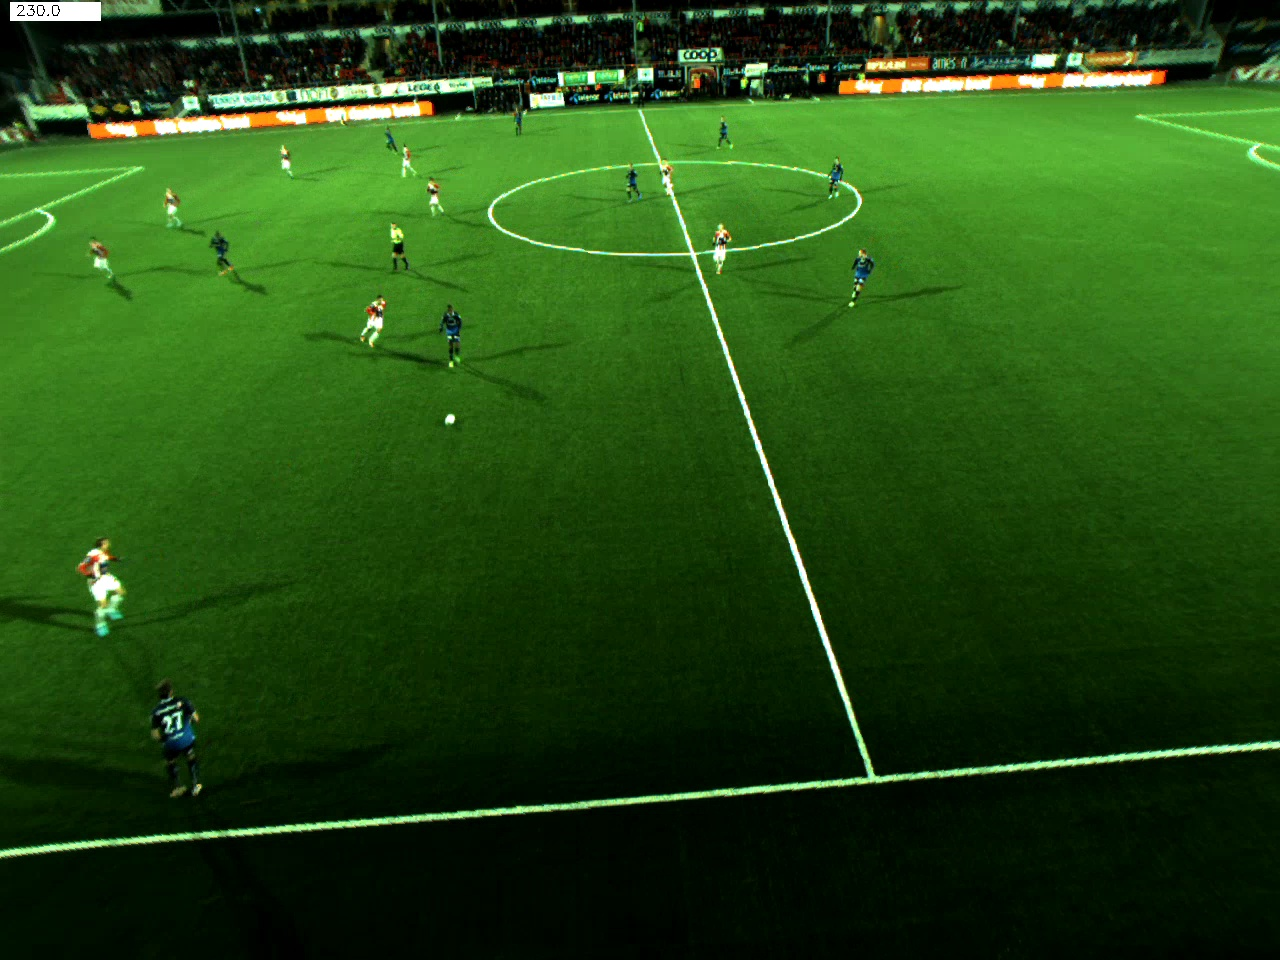blue: (148, 694, 239, 816), (198, 231, 251, 294), (848, 239, 883, 327), (433, 303, 470, 367), (616, 164, 655, 221), (824, 153, 852, 217), (710, 117, 737, 162), (509, 107, 528, 144), (377, 127, 401, 156)
red: (63, 532, 151, 659), (353, 288, 398, 364), (84, 220, 124, 303), (148, 173, 191, 237), (651, 150, 685, 209), (709, 221, 738, 284), (269, 138, 303, 191), (419, 177, 451, 227), (395, 138, 419, 188)
